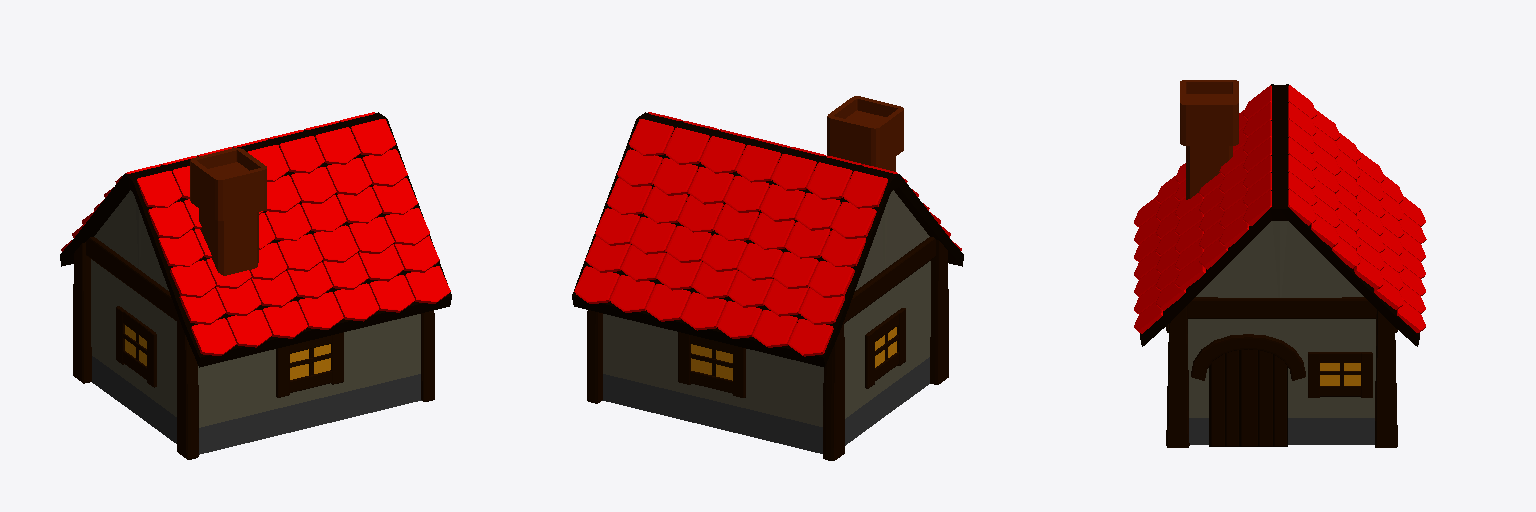
File: House_Level1_RedTeam.obj
The picture shows the model from 3 angles: view 1: azimuth 30°, elevation 25°; view 2: azimuth 150°, elevation 25°; view 3: azimuth 270°, elevation 25°; orthographic projection.
Parts seen in each view (by area): view 1: House_Level1_RedTeam_Cube.044; view 2: House_Level1_RedTeam_Cube.044; view 3: House_Level1_RedTeam_Cube.044.
Part boxes in pixels (left/top/right/bottom): House_Level1_RedTeam_Cube.044: left=60, top=112, right=451, bottom=459; House_Level1_RedTeam_Cube.044: left=572, top=96, right=963, bottom=460; House_Level1_RedTeam_Cube.044: left=1134, top=80, right=1426, bottom=447.
Size of the model in its own units: 11.22 by 11.19 by 11.16.